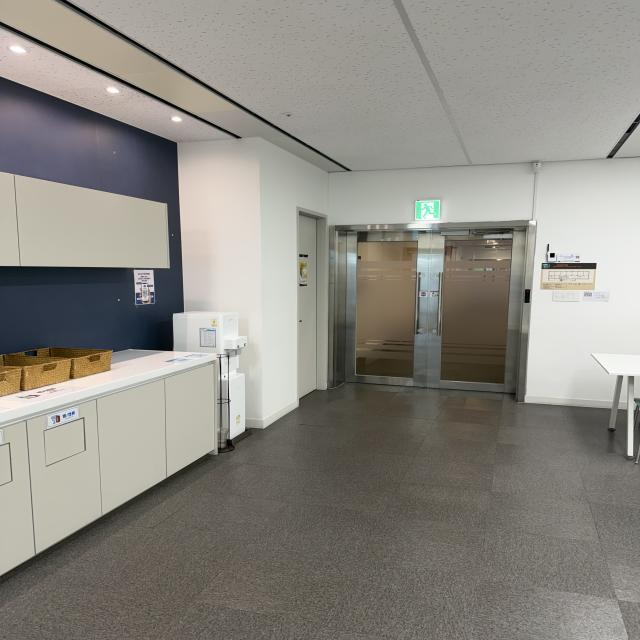rear_door: (336, 229, 515, 391)
